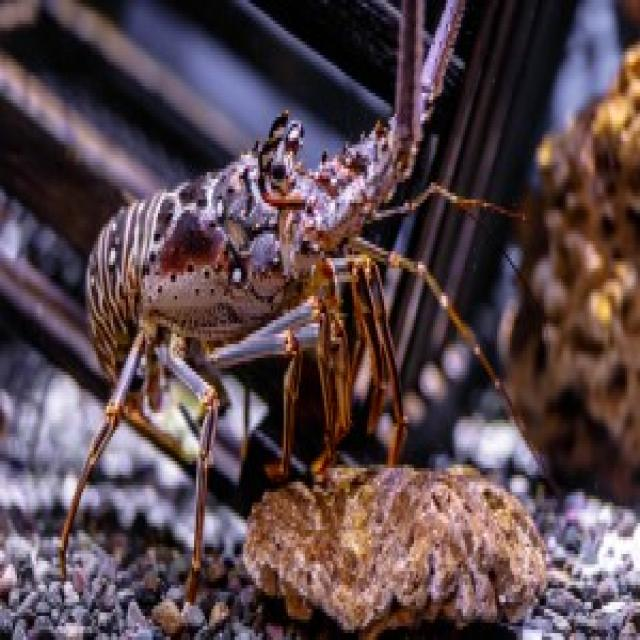lobsters: (22, 47, 584, 591)
